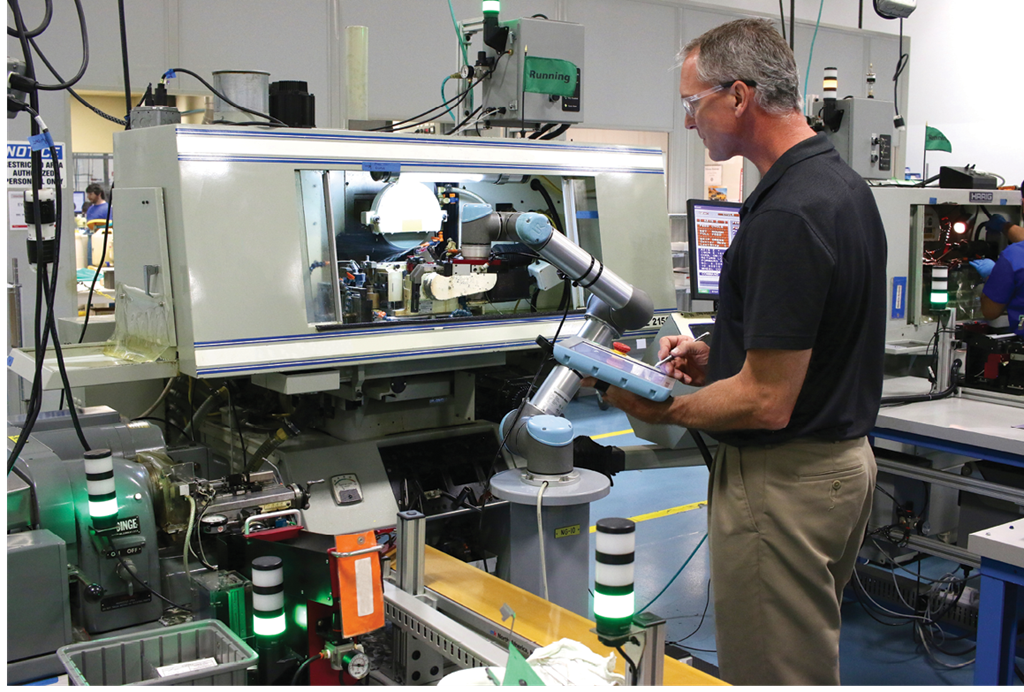person: (579, 16, 891, 688), (80, 181, 118, 228)
robot: (421, 192, 656, 490)
